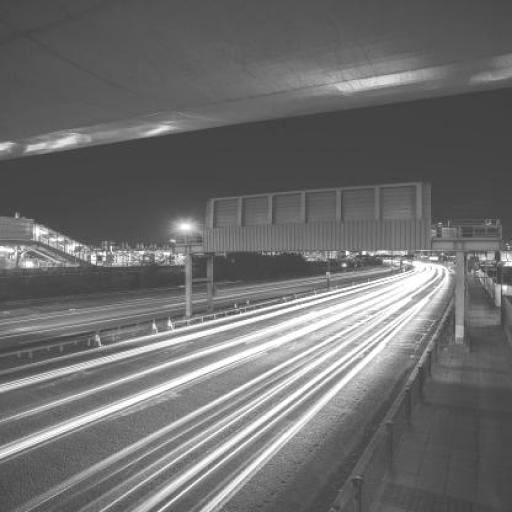street light: (181, 225, 193, 318)
